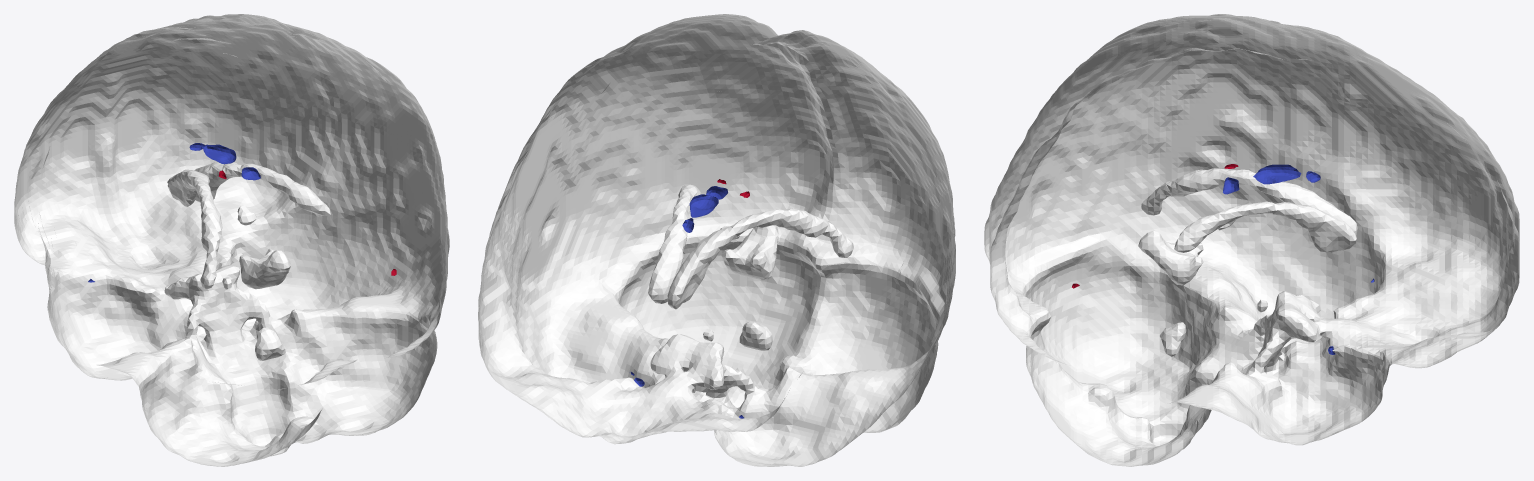
3 views of the same model, side by side, from view 1: azimuth 30°, elevation 25°; view 2: azimuth 150°, elevation 25°; view 3: azimuth 270°, elevation 25° (orthographic). The views are drawn at different scales.
Parts seen in each view (by area): view 1: Renderer Node; view 2: Renderer Node; view 3: Renderer Node.
Part boxes in pixels (x1,y1,x2,y2): Renderer Node: [14, 14, 449, 466]; Renderer Node: [478, 14, 955, 466]; Renderer Node: [984, 14, 1519, 466].
Size of the model in its own units: 144 by 152 by 180.
2 materials, 2 textured.
